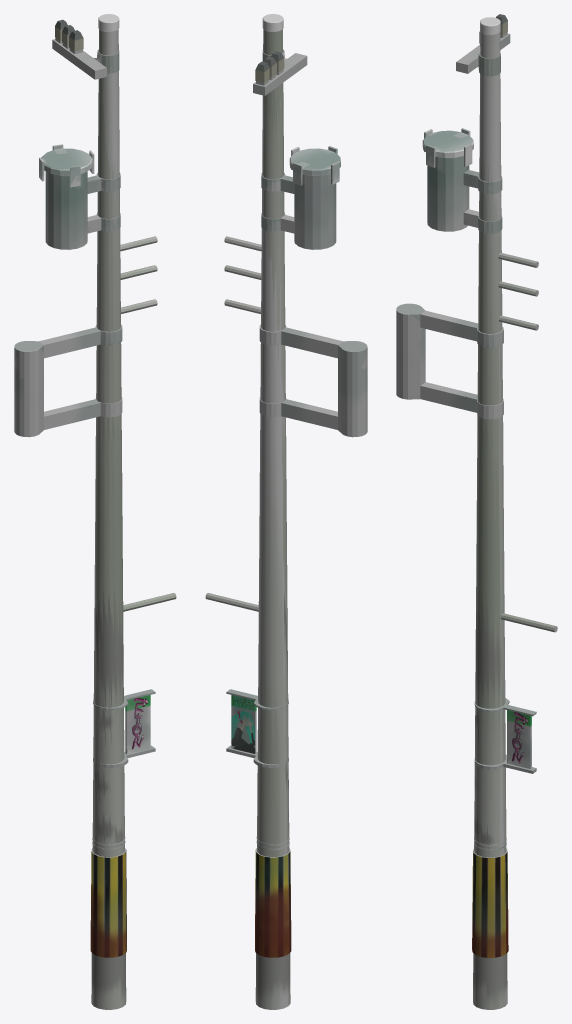
The picture shows the model from 3 angles, left to right: view 1: azimuth 30°, elevation 25°; view 2: azimuth 150°, elevation 25°; view 3: azimuth 330°, elevation 25°; orthographic projection.
Parts seen in each view (by area): view 1: 円柱.001, 円柱.002; view 2: 円柱.001, 円柱.002; view 3: 円柱.001, 円柱.002.
Boxes of the visible parts, x1,y1,x2,y2 form: 円柱.001: (91,14,176,1009); 円柱.002: (14,19,155,957); 円柱.001: (205,14,290,1009); 円柱.002: (226,49,367,957); 円柱.001: (473,17,557,1009); 円柱.002: (396,14,536,957).
Size of the model in its own units: 1.73 by 10.23 by 0.872.
Materials: 2 (2 with a texture image).
